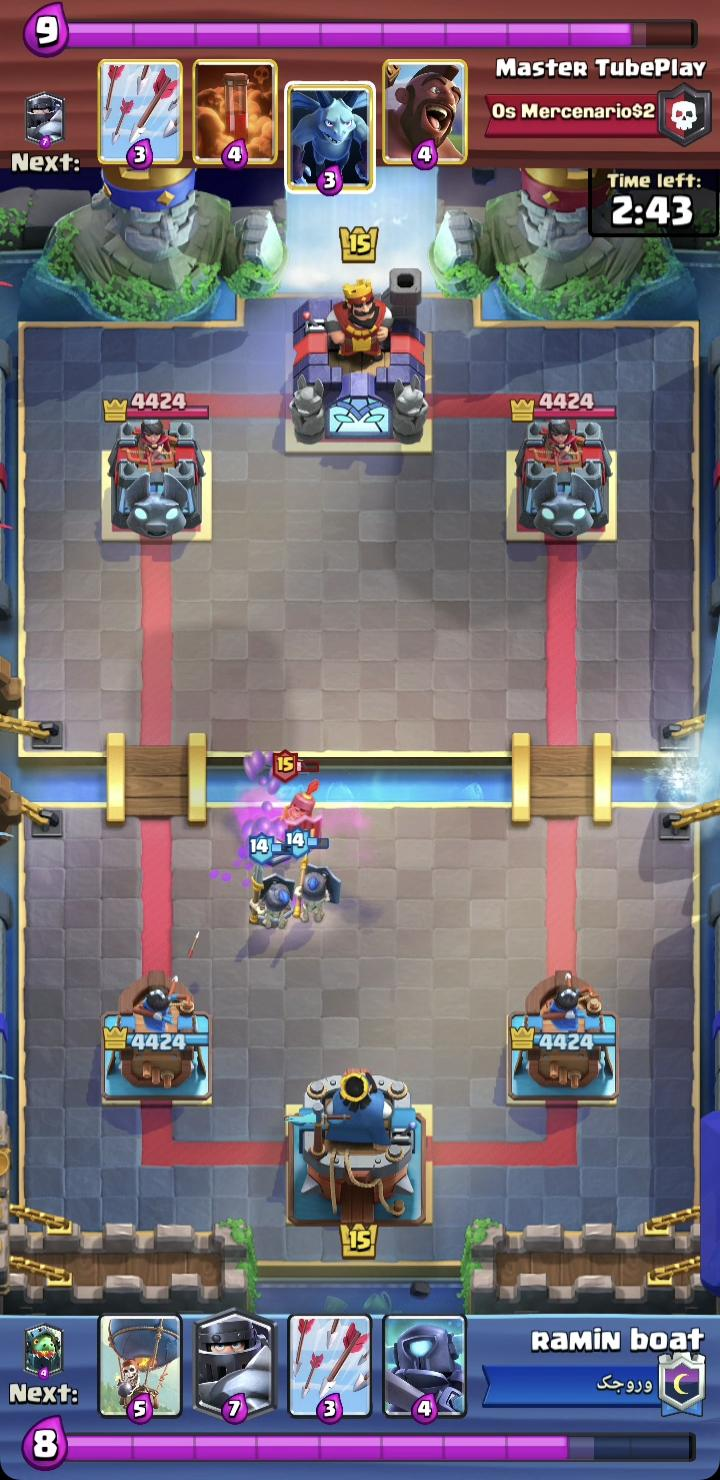ally_guard: (284, 824, 344, 924), (247, 831, 299, 931)
enemy_guard: (271, 747, 321, 843)
